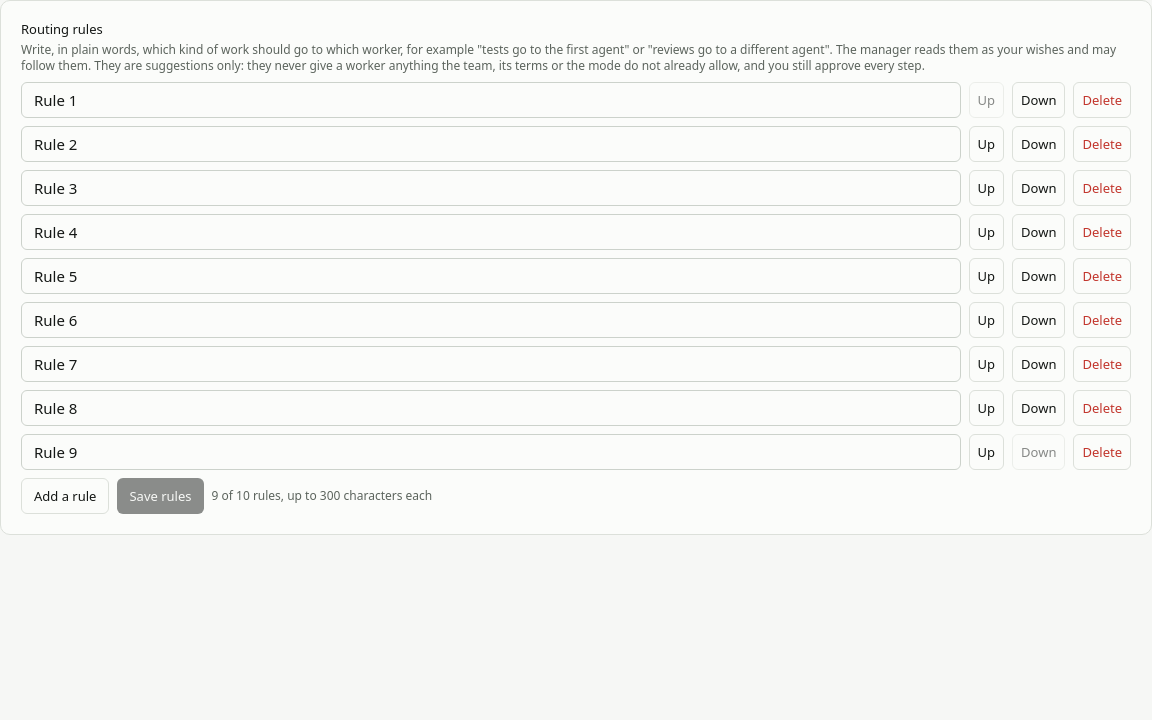
Test case: the routing rules editor › holds the caps: a rule field stops at 300 characters and the add button stops at 10 rules
Click the button with test id "routing-add": (65,496) [21,478,110,514]
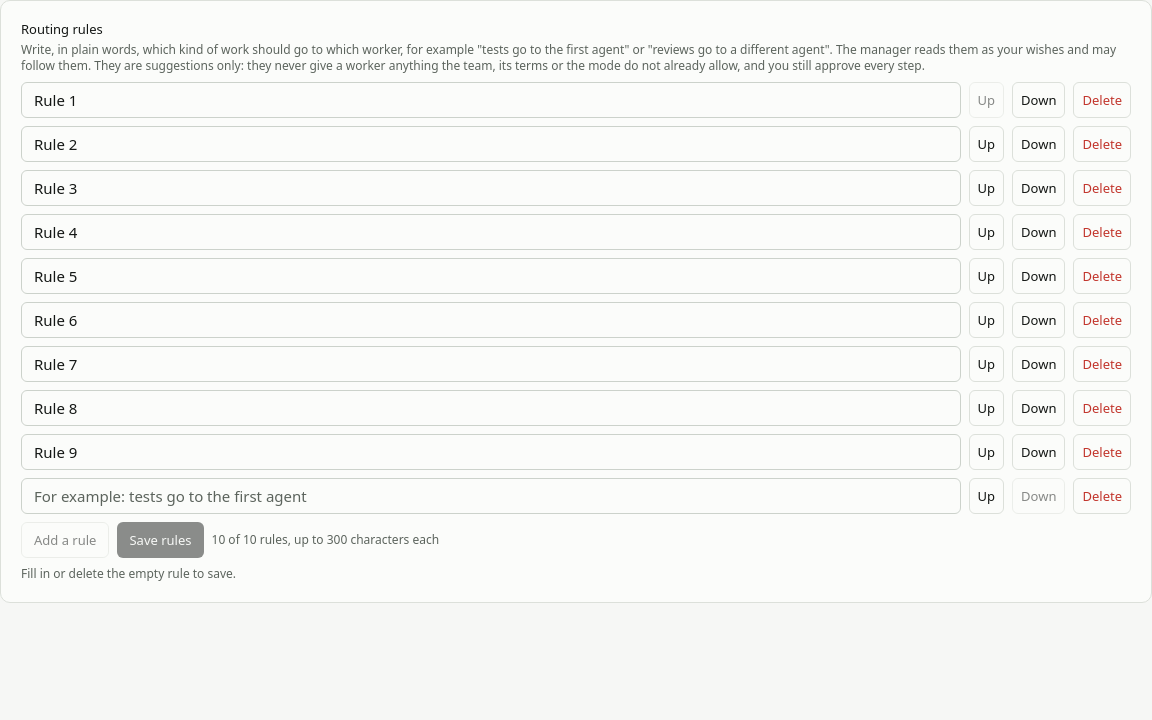
Check: the button with test id "routing-add" is disabled, box [21,522,110,558]
Check: the text with test id "routing-count" reads "10 of 10 rules, up to 300 characters each", box [212,532,439,548]
